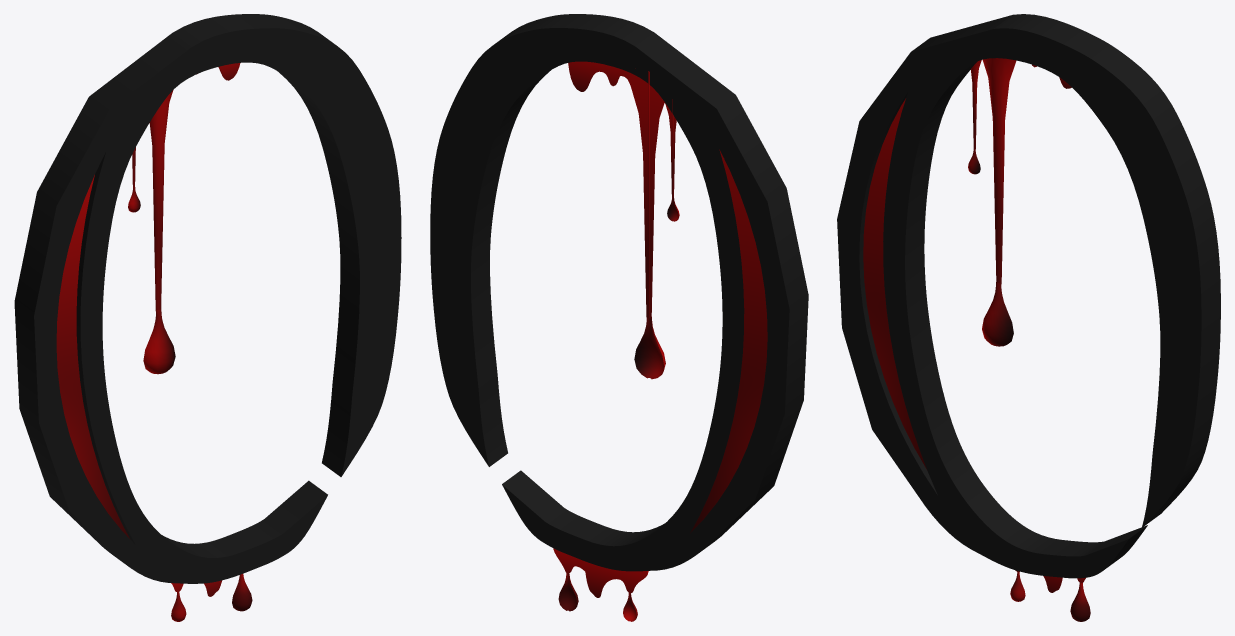
3 views of the same model, side by side, from view 1: azimuth 30°, elevation 25°; view 2: azimuth 150°, elevation 25°; view 3: azimuth 330°, elevation 25° (orthographic). The views are drawn at different scales.
Parts seen in each view (by area): view 1: O, O_Element, Blood_208, Blood_214; view 2: O, O_Element, Blood_208, Blood_214, Blood_159, Blood_210; view 3: O, O_Element, Blood_208, Blood_214, Blood_210.
Part boxes in pixels (x1,y1,x2,y2): O: (14, 14, 401, 583); O_Element: (56, 175, 129, 538); Blood_208: (143, 90, 175, 374); Blood_214: (171, 574, 252, 621); O: (430, 14, 808, 571); O_Element: (690, 149, 767, 533); Blood_208: (628, 71, 665, 379); Blood_214: (553, 548, 648, 621); Blood_159: (568, 61, 629, 91); Blood_210: (664, 99, 679, 221); O: (837, 14, 1220, 578); O_Element: (863, 98, 927, 470); Blood_208: (982, 58, 1016, 346); Blood_214: (1010, 570, 1090, 621); Blood_210: (968, 60, 981, 174).
Bounding box in the file's own units: 54.34 × 84.82 × 5.05.
2 materials, 1 textured.
